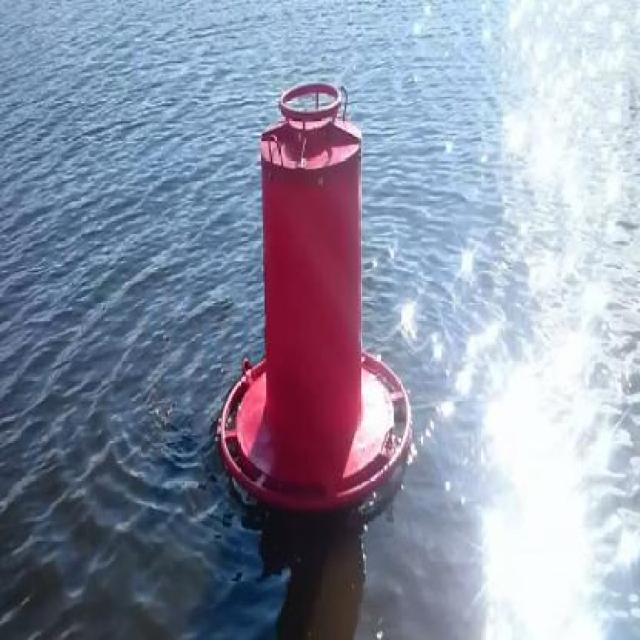Red Buoy: (217, 121, 409, 504)
